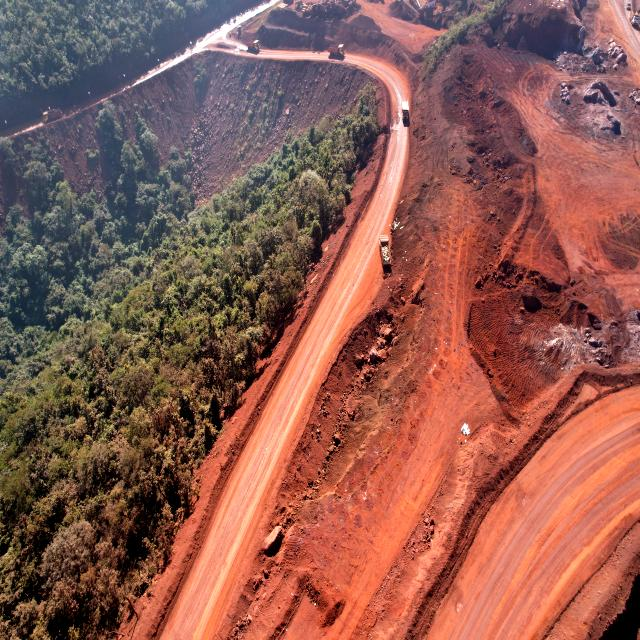Dumper truck: (379, 234, 394, 270), (42, 109, 62, 121), (328, 43, 342, 58), (401, 101, 409, 122), (630, 9, 640, 25), (247, 40, 260, 51)
car: (626, 2, 632, 12)
